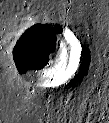crater: (4, 11, 99, 108)
